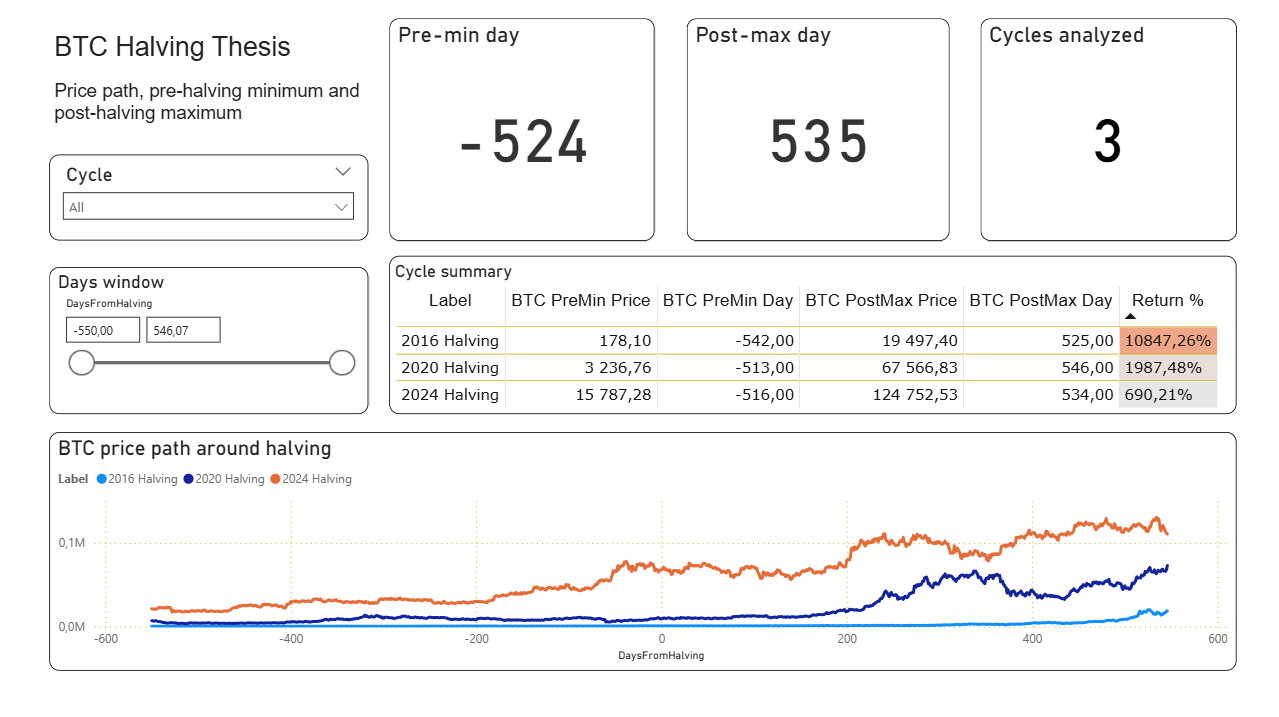

The page's visual inventory and layout, read from the dashboard file:
{"tool":"powerbi","page":{"name":"BTC Halving Thesis","canvas":[1280,720],"ordinal":1},"visuals":[{"type":"tableEx","title":"Cycle summary","fields":{"Values":["dim_halving.Label","measures_report.BTC PreMin Price","measures_report.BTC PreMin Day","measures_report.BTC PostMax Price","measures_report.BTC PostMax Day","measures_report.BTC Return PreMin To PostMax Display"]},"box":[389.4,257.5,843.4,158],"z":1000},{"type":"lineChart","title":"BTC price path around halving","fields":{"Category":["fct_halving_window.DaysFromHalving"],"Series":["fct_halving_window.Label"],"Y":["Sum(fct_halving_window.Adj Close)"]},"box":[51,432.9,1181.8,237.6],"z":2000},{"type":"textbox","box":[51,29.9,317.2,110.7],"z":3000},{"type":"slicer","fields":{"Values":["fct_halving_window.Label"]},"box":[51,156.7,317.2,85.8],"z":4000},{"type":"slicer","title":"Days window","fields":{"Values":["fct_halving_window.DaysFromHalving"]},"box":[51,268.7,317.2,146.8],"z":5000},{"type":"advanceCardE03760C5AB684758B56AA29F9E6C257B","title":"Pre-min day","fields":{"mainMeasure":["measures_report.Avg PreMin Day"]},"box":[389.4,21.1,263.7,221.4],"z":6000},{"type":"advanceCardE03760C5AB684758B56AA29F9E6C257B","title":"Post-max day","fields":{"mainMeasure":["measures_report.Avg PostMax Day"]},"box":[685.4,21.1,261.2,221.4],"z":7000},{"type":"advanceCardE03760C5AB684758B56AA29F9E6C257B","title":"Cycles analyzed","fields":{"mainMeasure":["measures_report.Cycles Analyzed"]},"box":[977.8,21.1,255,221.4],"z":8000}]}

Visuals, with their boxes in screenshot pixels (x1, y1, x2, y2), scaled from the page's 1280x720 canvas onto the 1279x717 screenshot:
"Cycle summary" tableEx: crop(389, 256, 1232, 414)
"BTC price path around halving" lineChart: crop(51, 431, 1232, 668)
textbox: crop(51, 30, 368, 140)
slicer - fct_halving_window.Label: crop(51, 156, 368, 241)
"Days window" slicer: crop(51, 268, 368, 414)
"Pre-min day" advanceCardE03760C5AB684758B56AA29F9E6C257B: crop(389, 21, 653, 241)
"Post-max day" advanceCardE03760C5AB684758B56AA29F9E6C257B: crop(685, 21, 946, 241)
"Cycles analyzed" advanceCardE03760C5AB684758B56AA29F9E6C257B: crop(977, 21, 1232, 241)
